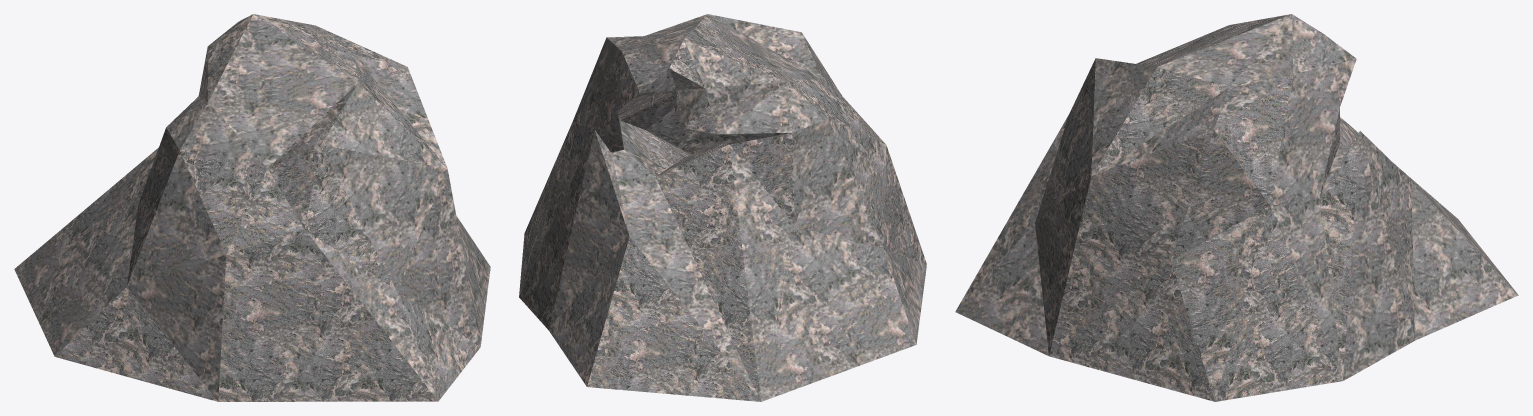
File: cave-entrace.dae
The picture shows the model from 3 angles, left to right: view 1: azimuth 30°, elevation 25°; view 2: azimuth 150°, elevation 25°; view 3: azimuth 270°, elevation 25°; orthographic projection. The views are drawn at different scales.
Parts seen in each view (by area): view 1: Model; view 2: Model; view 3: Model.
Part boxes in pixels (left/top/right/bottom): Model: left=14, top=14, right=490, bottom=401; Model: left=519, top=14, right=926, bottom=401; Model: left=955, top=14, right=1518, bottom=401.
Size of the model in its own units: 168 by 188 by 108.
